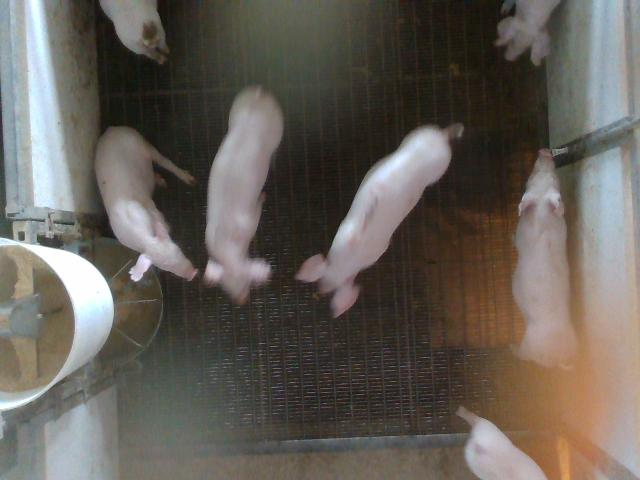pig-3: (296, 124, 462, 317)
